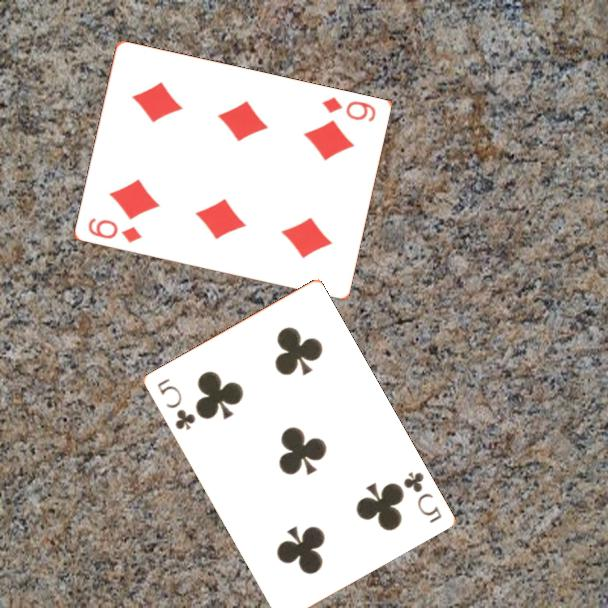c05: (399, 468, 445, 526), (153, 375, 198, 433)
d06: (318, 93, 378, 125), (84, 215, 144, 246)
